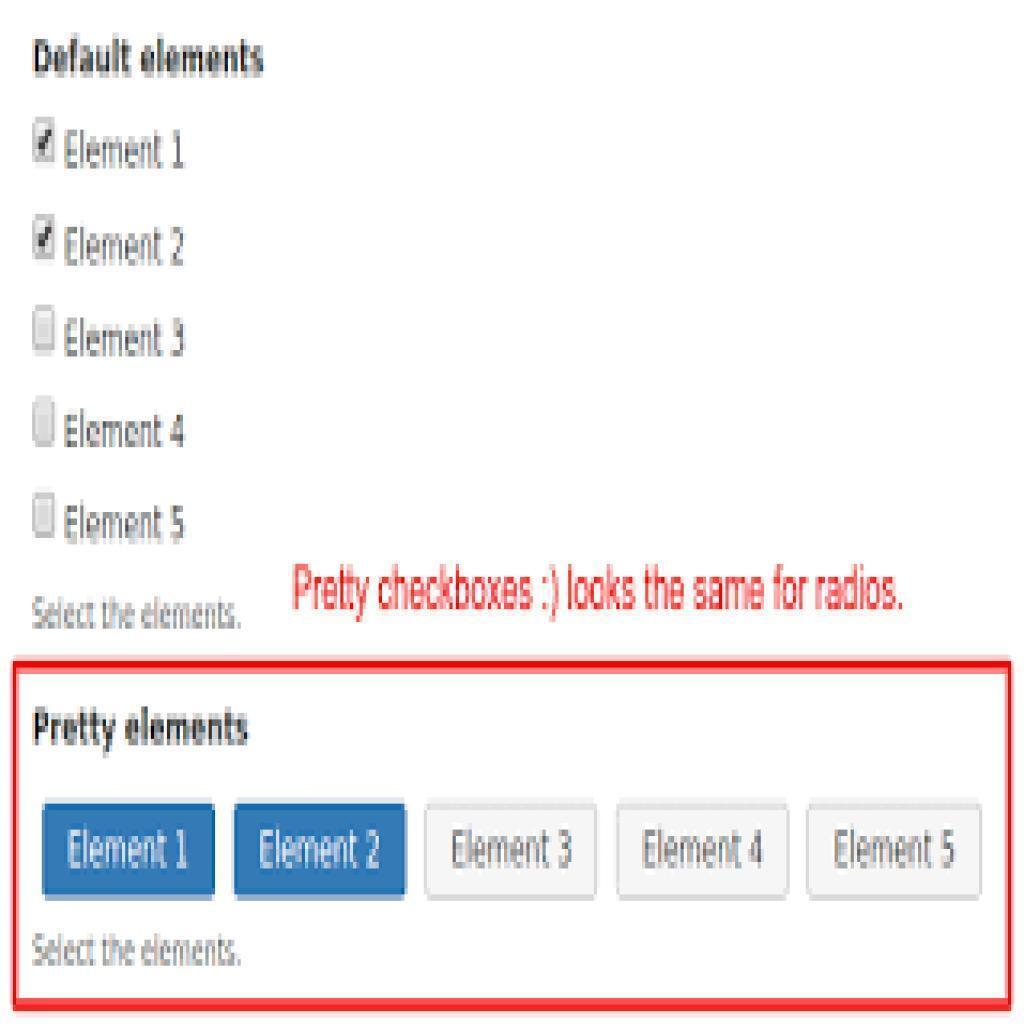button: (235, 800, 408, 898), (45, 804, 217, 901), (805, 804, 980, 899), (428, 803, 597, 899), (619, 803, 787, 899)
checkbox: (31, 398, 58, 446), (31, 118, 58, 164), (30, 493, 57, 538), (31, 303, 56, 350), (31, 213, 55, 260)
